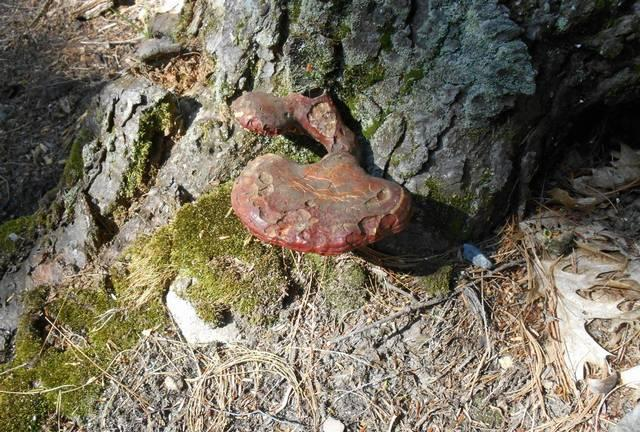Non-edible Mushroom: (228, 86, 414, 256)
